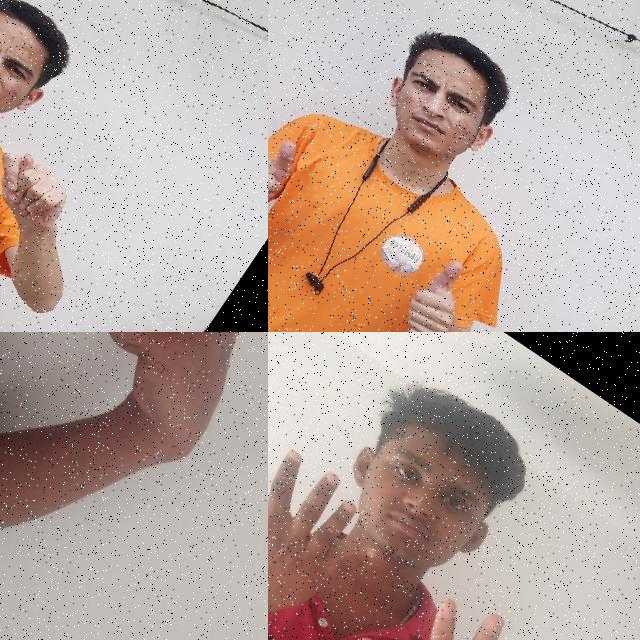Dulya: (43, 332, 268, 460), (0, 125, 96, 253)
Moutza: (268, 412, 407, 640), (311, 552, 590, 640)
Thumbs Up: (387, 238, 495, 332), (268, 111, 315, 232)
